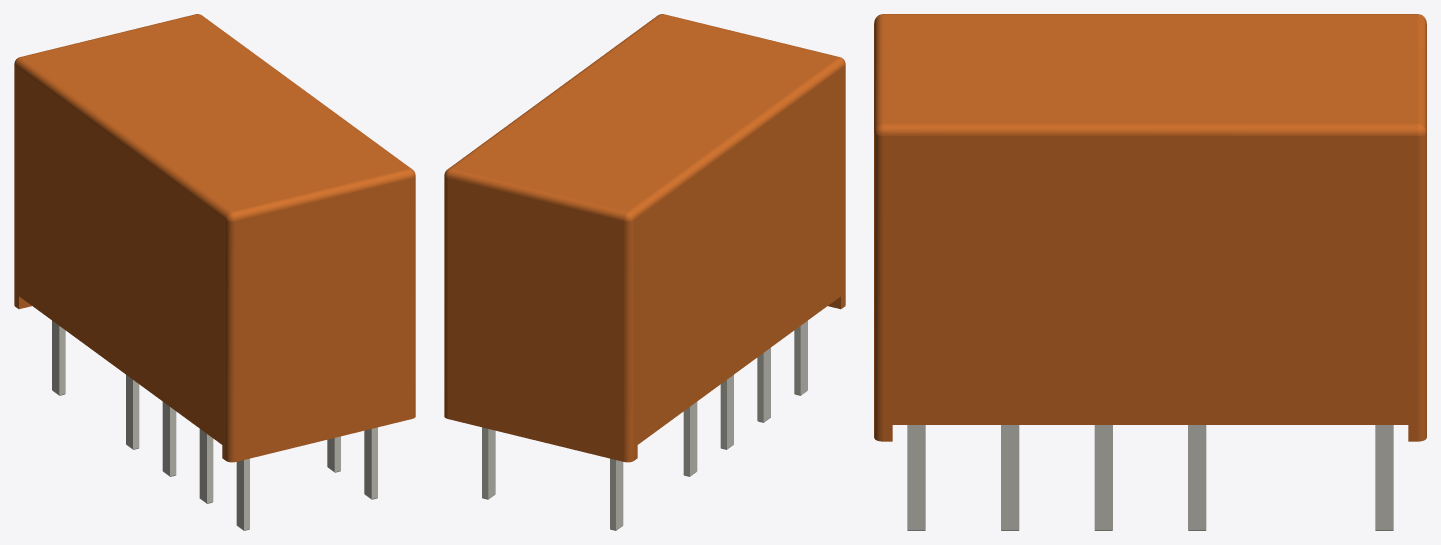
Rendered from kc-relay_dpdt_kemet_ec2_nu_doublecoil.glb.
3 views of the same model, side by side, from view 1: azimuth 30°, elevation 25°; view 2: azimuth 150°, elevation 25°; view 3: azimuth 270°, elevation 25° (orthographic). The views are drawn at different scales.
Visible parts, largest first — view 1: 0.5833333333333334_0.16666666666666666_0_0, 0.6666666666666666_0.6666666666666666_0.5833333333333334_0.8; view 2: 0.5833333333333334_0.16666666666666666_0_0, 0.6666666666666666_0.6666666666666666_0.5833333333333334_0.8; view 3: 0.5833333333333334_0.16666666666666666_0_0, 0.6666666666666666_0.6666666666666666_0.5833333333333334_0.8.
Part boxes in pixels (<box>): 0.5833333333333334_0.16666666666666666_0_0: <box>14,14,415,462</box>; 0.6666666666666666_0.6666666666666666_0.5833333333333334_0.8: <box>52,320,377,530</box>; 0.5833333333333334_0.16666666666666666_0_0: <box>444,14,845,462</box>; 0.6666666666666666_0.6666666666666666_0.5833333333333334_0.8: <box>482,320,807,530</box>; 0.5833333333333334_0.16666666666666666_0_0: <box>874,14,1426,441</box>; 0.6666666666666666_0.6666666666666666_0.5833333333333334_0.8: <box>907,425,1393,530</box>.
Bounding box in the file's own units: 0.7501 × 1.26 × 1.5.
